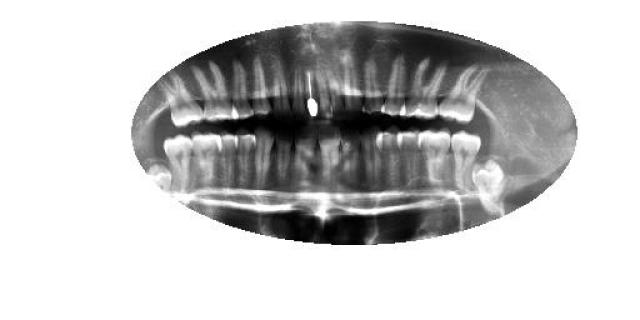Implant: (304, 66, 320, 120)
Restorations: (470, 154, 505, 216)
